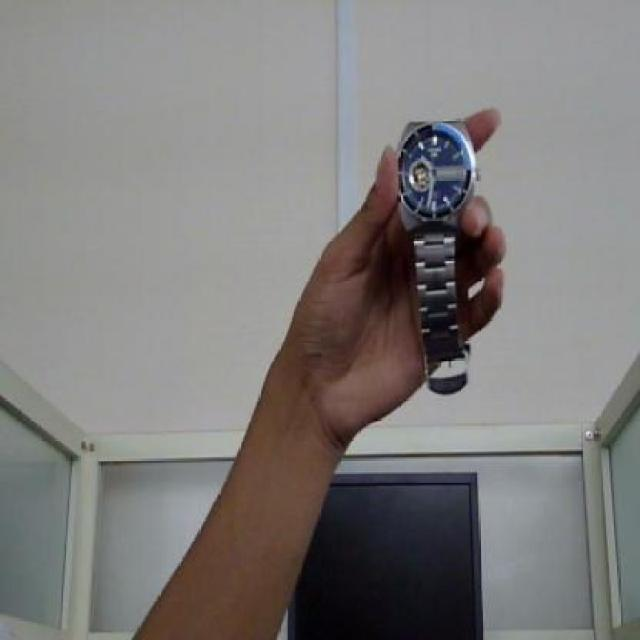Metal: (396, 116, 477, 397)
